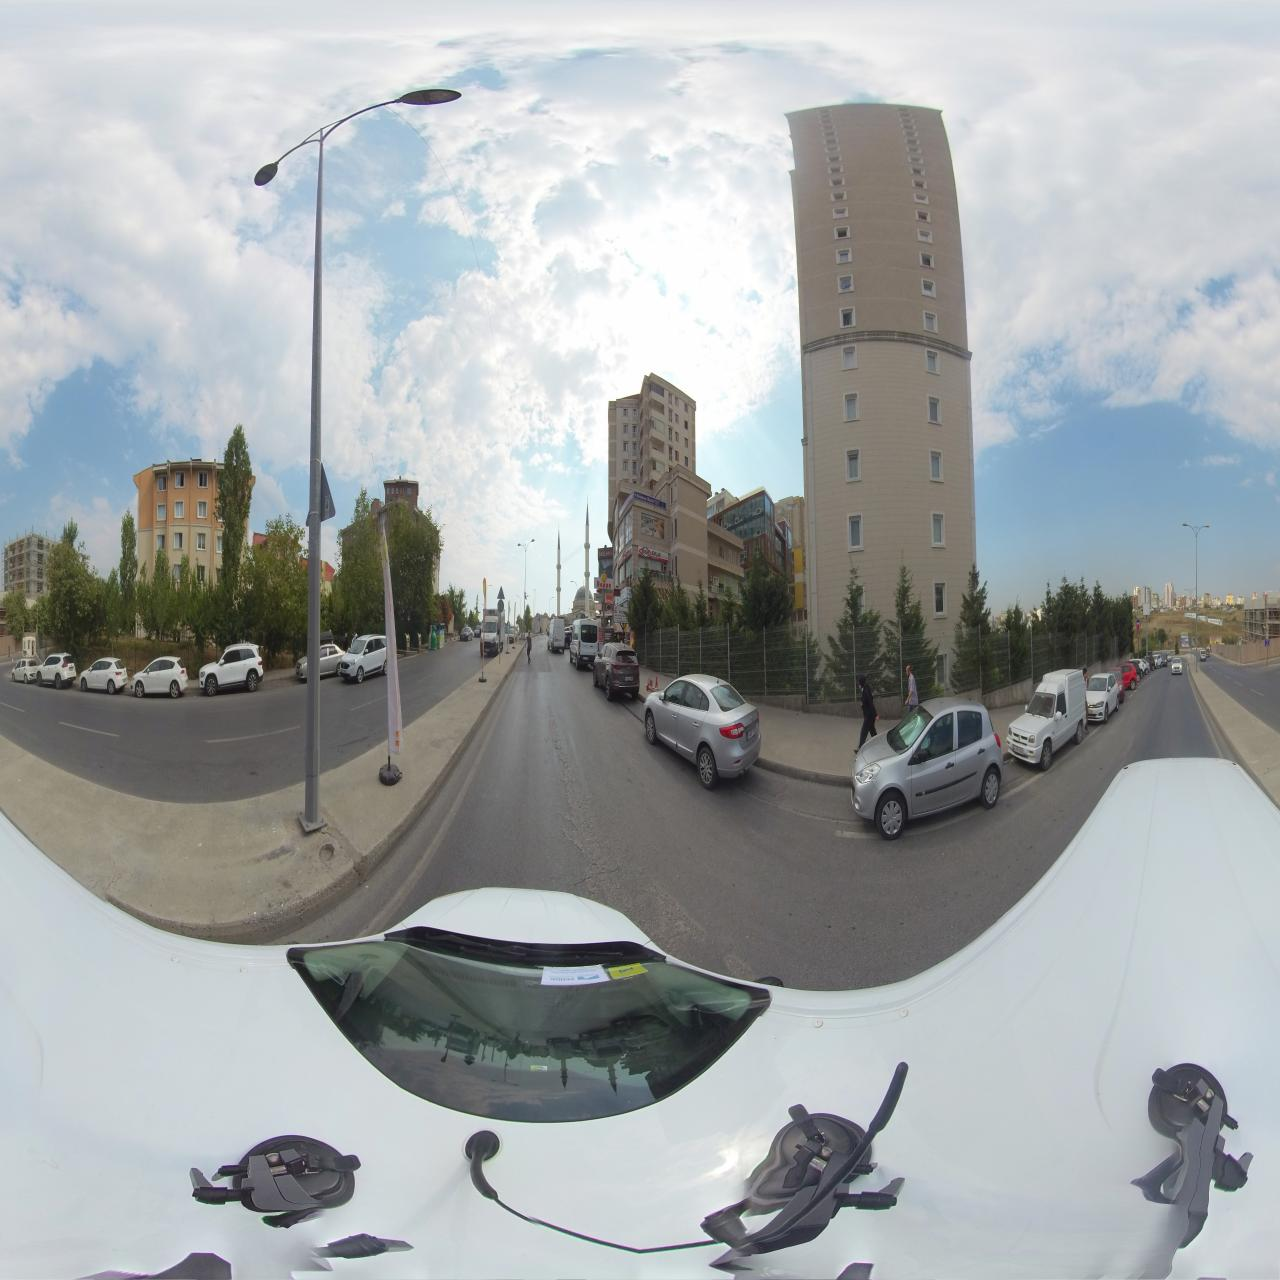SignStore: (638, 546, 668, 563), (634, 491, 663, 508), (617, 545, 633, 567)
